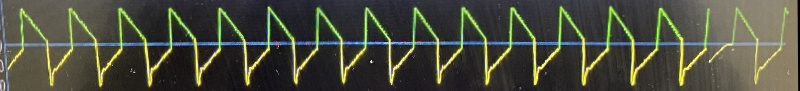peepi: (0, 0, 704, 91)
